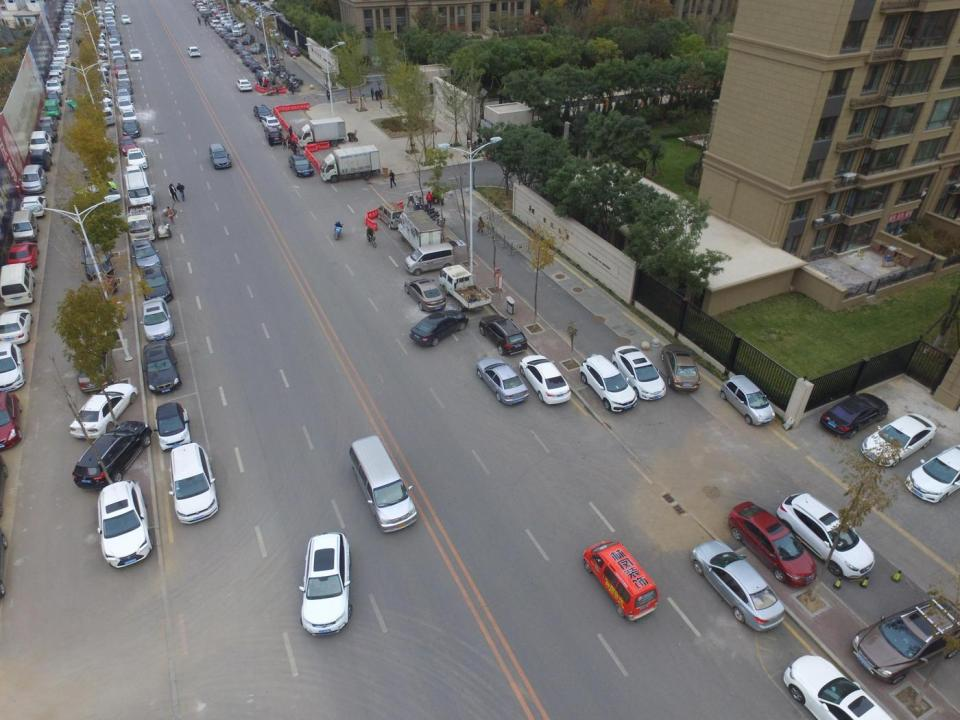car: (852, 596, 960, 682), (692, 538, 786, 630), (779, 494, 876, 581), (780, 655, 901, 720), (726, 501, 816, 587), (299, 528, 352, 640), (73, 420, 153, 491), (94, 480, 153, 570), (70, 383, 140, 442), (860, 414, 935, 469), (165, 444, 216, 524), (904, 446, 960, 507), (580, 357, 636, 414), (822, 392, 888, 440), (720, 374, 777, 426), (614, 343, 665, 401), (520, 356, 572, 407), (475, 358, 528, 405), (409, 310, 469, 348), (660, 343, 701, 394), (479, 312, 526, 356), (142, 342, 180, 394), (150, 404, 191, 448), (76, 348, 115, 393), (404, 276, 446, 312), (81, 278, 117, 320), (75, 197, 109, 241), (0, 392, 23, 450), (142, 300, 172, 344), (138, 266, 172, 304), (81, 242, 114, 281), (0, 342, 25, 391), (0, 310, 33, 345), (130, 238, 160, 276), (8, 242, 39, 270), (86, 103, 116, 126), (208, 144, 232, 170), (290, 155, 316, 177), (21, 194, 46, 216), (126, 148, 148, 172), (36, 122, 58, 143), (29, 149, 51, 170), (84, 93, 112, 107), (118, 135, 136, 156), (122, 120, 141, 138), (253, 105, 272, 123), (43, 98, 60, 118), (116, 98, 134, 116), (265, 126, 283, 144), (40, 115, 58, 132), (44, 91, 61, 108), (263, 116, 281, 132), (121, 110, 138, 126), (117, 80, 133, 96), (237, 78, 254, 93), (117, 89, 132, 105), (46, 80, 62, 94), (186, 46, 203, 58), (49, 65, 64, 78), (49, 72, 65, 84), (130, 48, 143, 62), (286, 44, 300, 57), (254, 70, 269, 82), (53, 52, 66, 65), (113, 57, 127, 69), (251, 42, 265, 54), (52, 58, 65, 70), (114, 64, 126, 77), (242, 34, 255, 46), (60, 22, 72, 34), (112, 50, 124, 62), (108, 38, 120, 50), (227, 37, 239, 49), (112, 44, 123, 57), (214, 7, 228, 17), (119, 14, 131, 25), (249, 62, 261, 73), (220, 13, 233, 23), (106, 20, 117, 31), (104, 16, 115, 27), (243, 56, 254, 67), (110, 34, 122, 44), (282, 39, 292, 51), (56, 34, 69, 43), (225, 20, 238, 29), (215, 10, 228, 19), (211, 5, 224, 14), (58, 46, 69, 56), (239, 50, 250, 60), (234, 44, 245, 54), (211, 2, 222, 12), (108, 30, 120, 39), (222, 17, 234, 26), (107, 25, 117, 35), (104, 7, 114, 17), (219, 29, 229, 39), (59, 30, 70, 39), (58, 41, 69, 50), (66, 2, 75, 12), (65, 5, 74, 15), (62, 10, 72, 19), (63, 15, 73, 24), (61, 20, 71, 29), (214, 25, 223, 35), (207, 17, 217, 26), (203, 12, 212, 22), (201, 10, 210, 20), (198, 5, 206, 16), (106, 0, 115, 9), (224, 33, 233, 42), (210, 20, 219, 29), (106, 13, 114, 23), (106, 2, 114, 12), (195, 0, 203, 10), (67, 0, 78, 7), (195, 3, 205, 10)
truck: (318, 142, 384, 185), (439, 265, 490, 311), (398, 209, 444, 252), (296, 115, 346, 148)
van: (350, 434, 419, 533), (583, 542, 655, 622), (403, 240, 467, 274), (0, 264, 35, 307), (10, 210, 39, 243), (21, 165, 47, 192), (29, 130, 53, 155), (118, 70, 131, 85), (232, 22, 247, 35)
